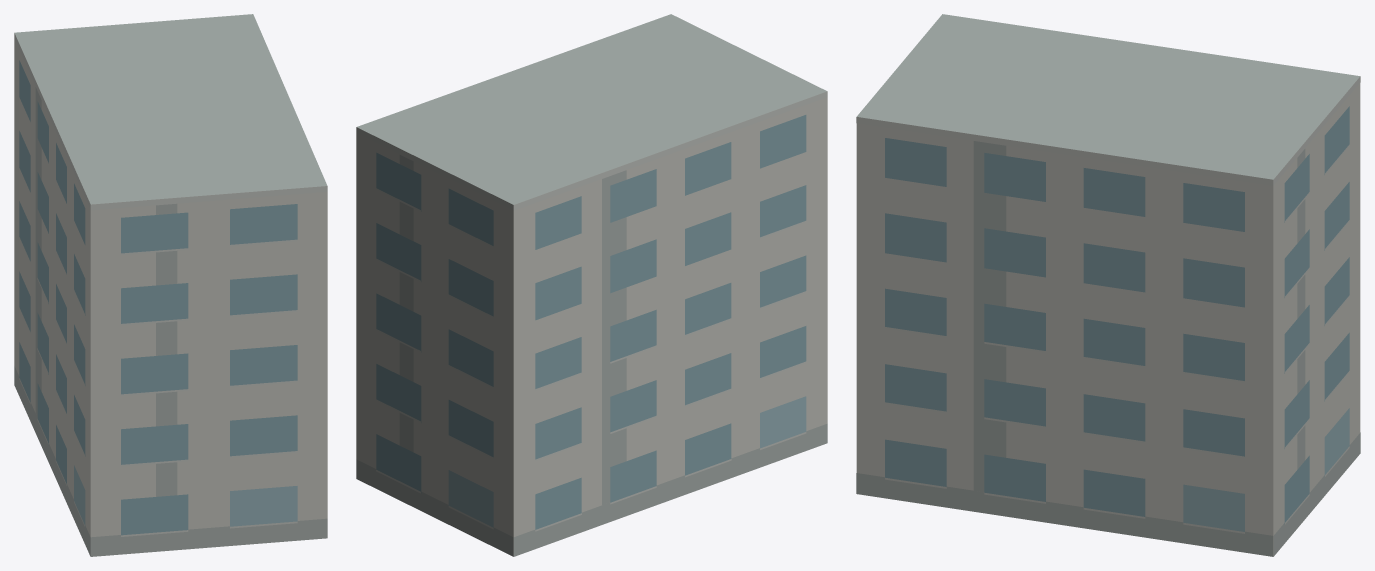
The model's file is survey-upis-32894334.glb.
3 renders of one model, left to right at view 1: azimuth 30°, elevation 25°; view 2: azimuth 150°, elevation 25°; view 3: azimuth 270°, elevation 25°, orthographic. The views are drawn at different scales.
Visible parts, largest first — view 1: survey-upis-32894334.tmp; view 2: survey-upis-32894334.tmp; view 3: survey-upis-32894334.tmp.
Part boxes in pixels (<box>): survey-upis-32894334.tmp: <box>14,14,327,556</box>; survey-upis-32894334.tmp: <box>356,14,827,556</box>; survey-upis-32894334.tmp: <box>856,14,1360,556</box>.
Bounding box in the file's own units: 13.53 × 14.35 × 17.39.
